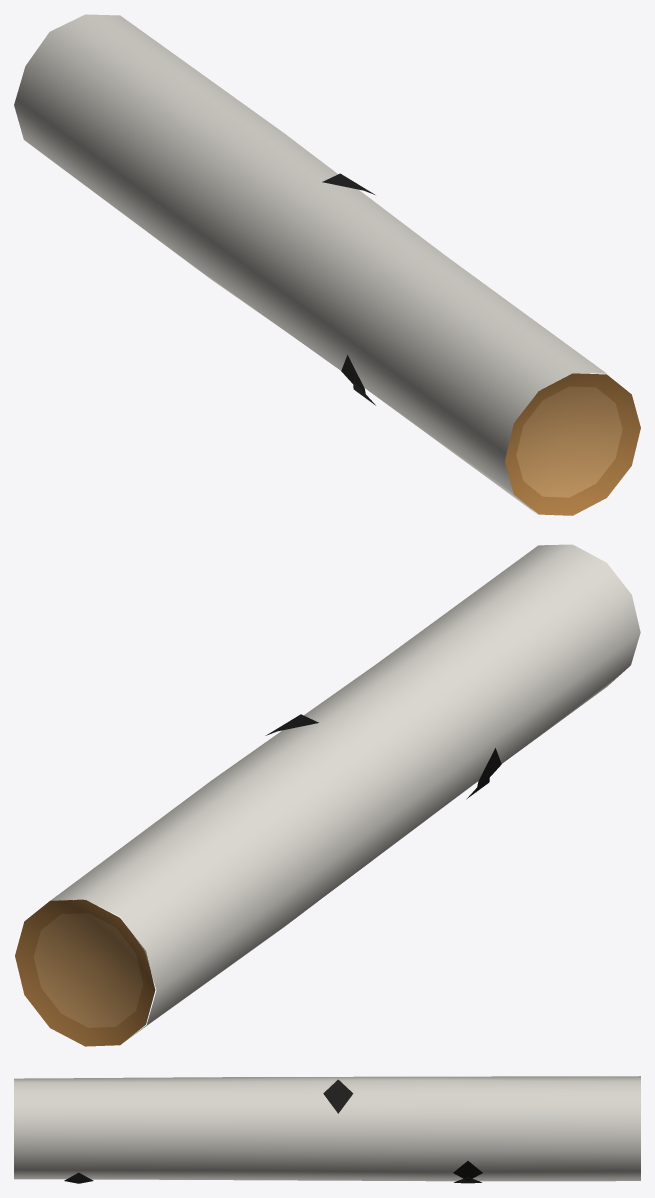
File: birch_log.glb
The picture shows the model from 3 angles, top to bottom: view 1: azimuth 30°, elevation 25°; view 2: azimuth 150°, elevation 25°; view 3: azimuth 270°, elevation 25°; orthographic projection. The views are drawn at different scales.
Parts seen in each view (by area): view 1: birch_log; view 2: birch_log; view 3: birch_log.
Boxes of the visible parts, box(x1,y1,x2,y2) form: birch_log: box(14, 14, 640, 515); birch_log: box(15, 544, 640, 1046); birch_log: box(14, 1076, 640, 1183).
Bounding box in the file's own units: 0.2523 × 0.2544 × 1.45.
